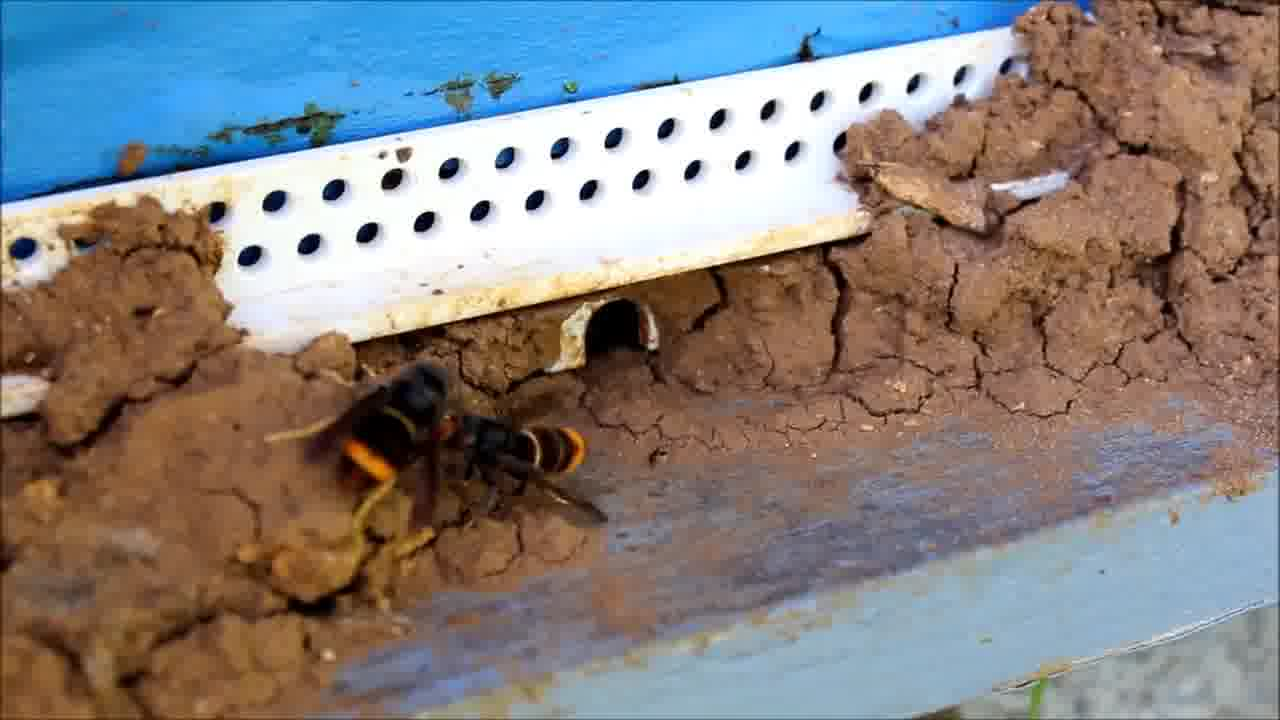hornet: (337, 353, 463, 529), (449, 387, 615, 519)
